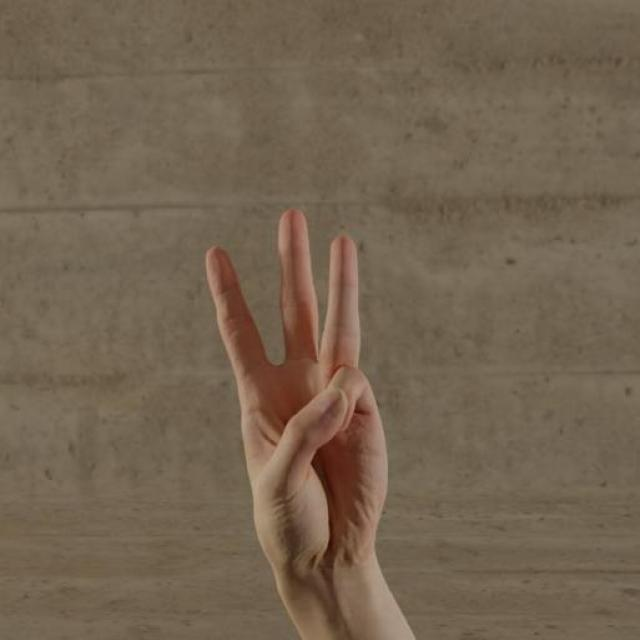W: (203, 199, 402, 631)
